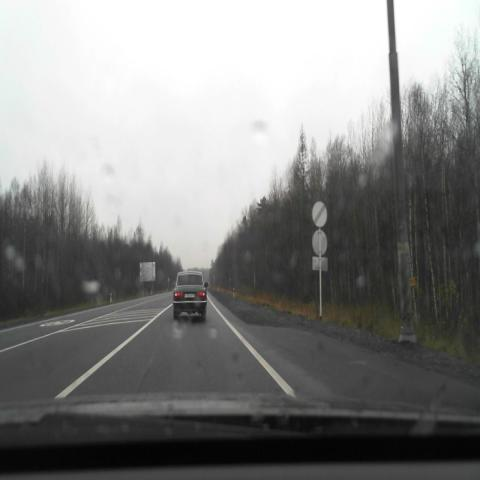3_31: (312, 200, 328, 227)
